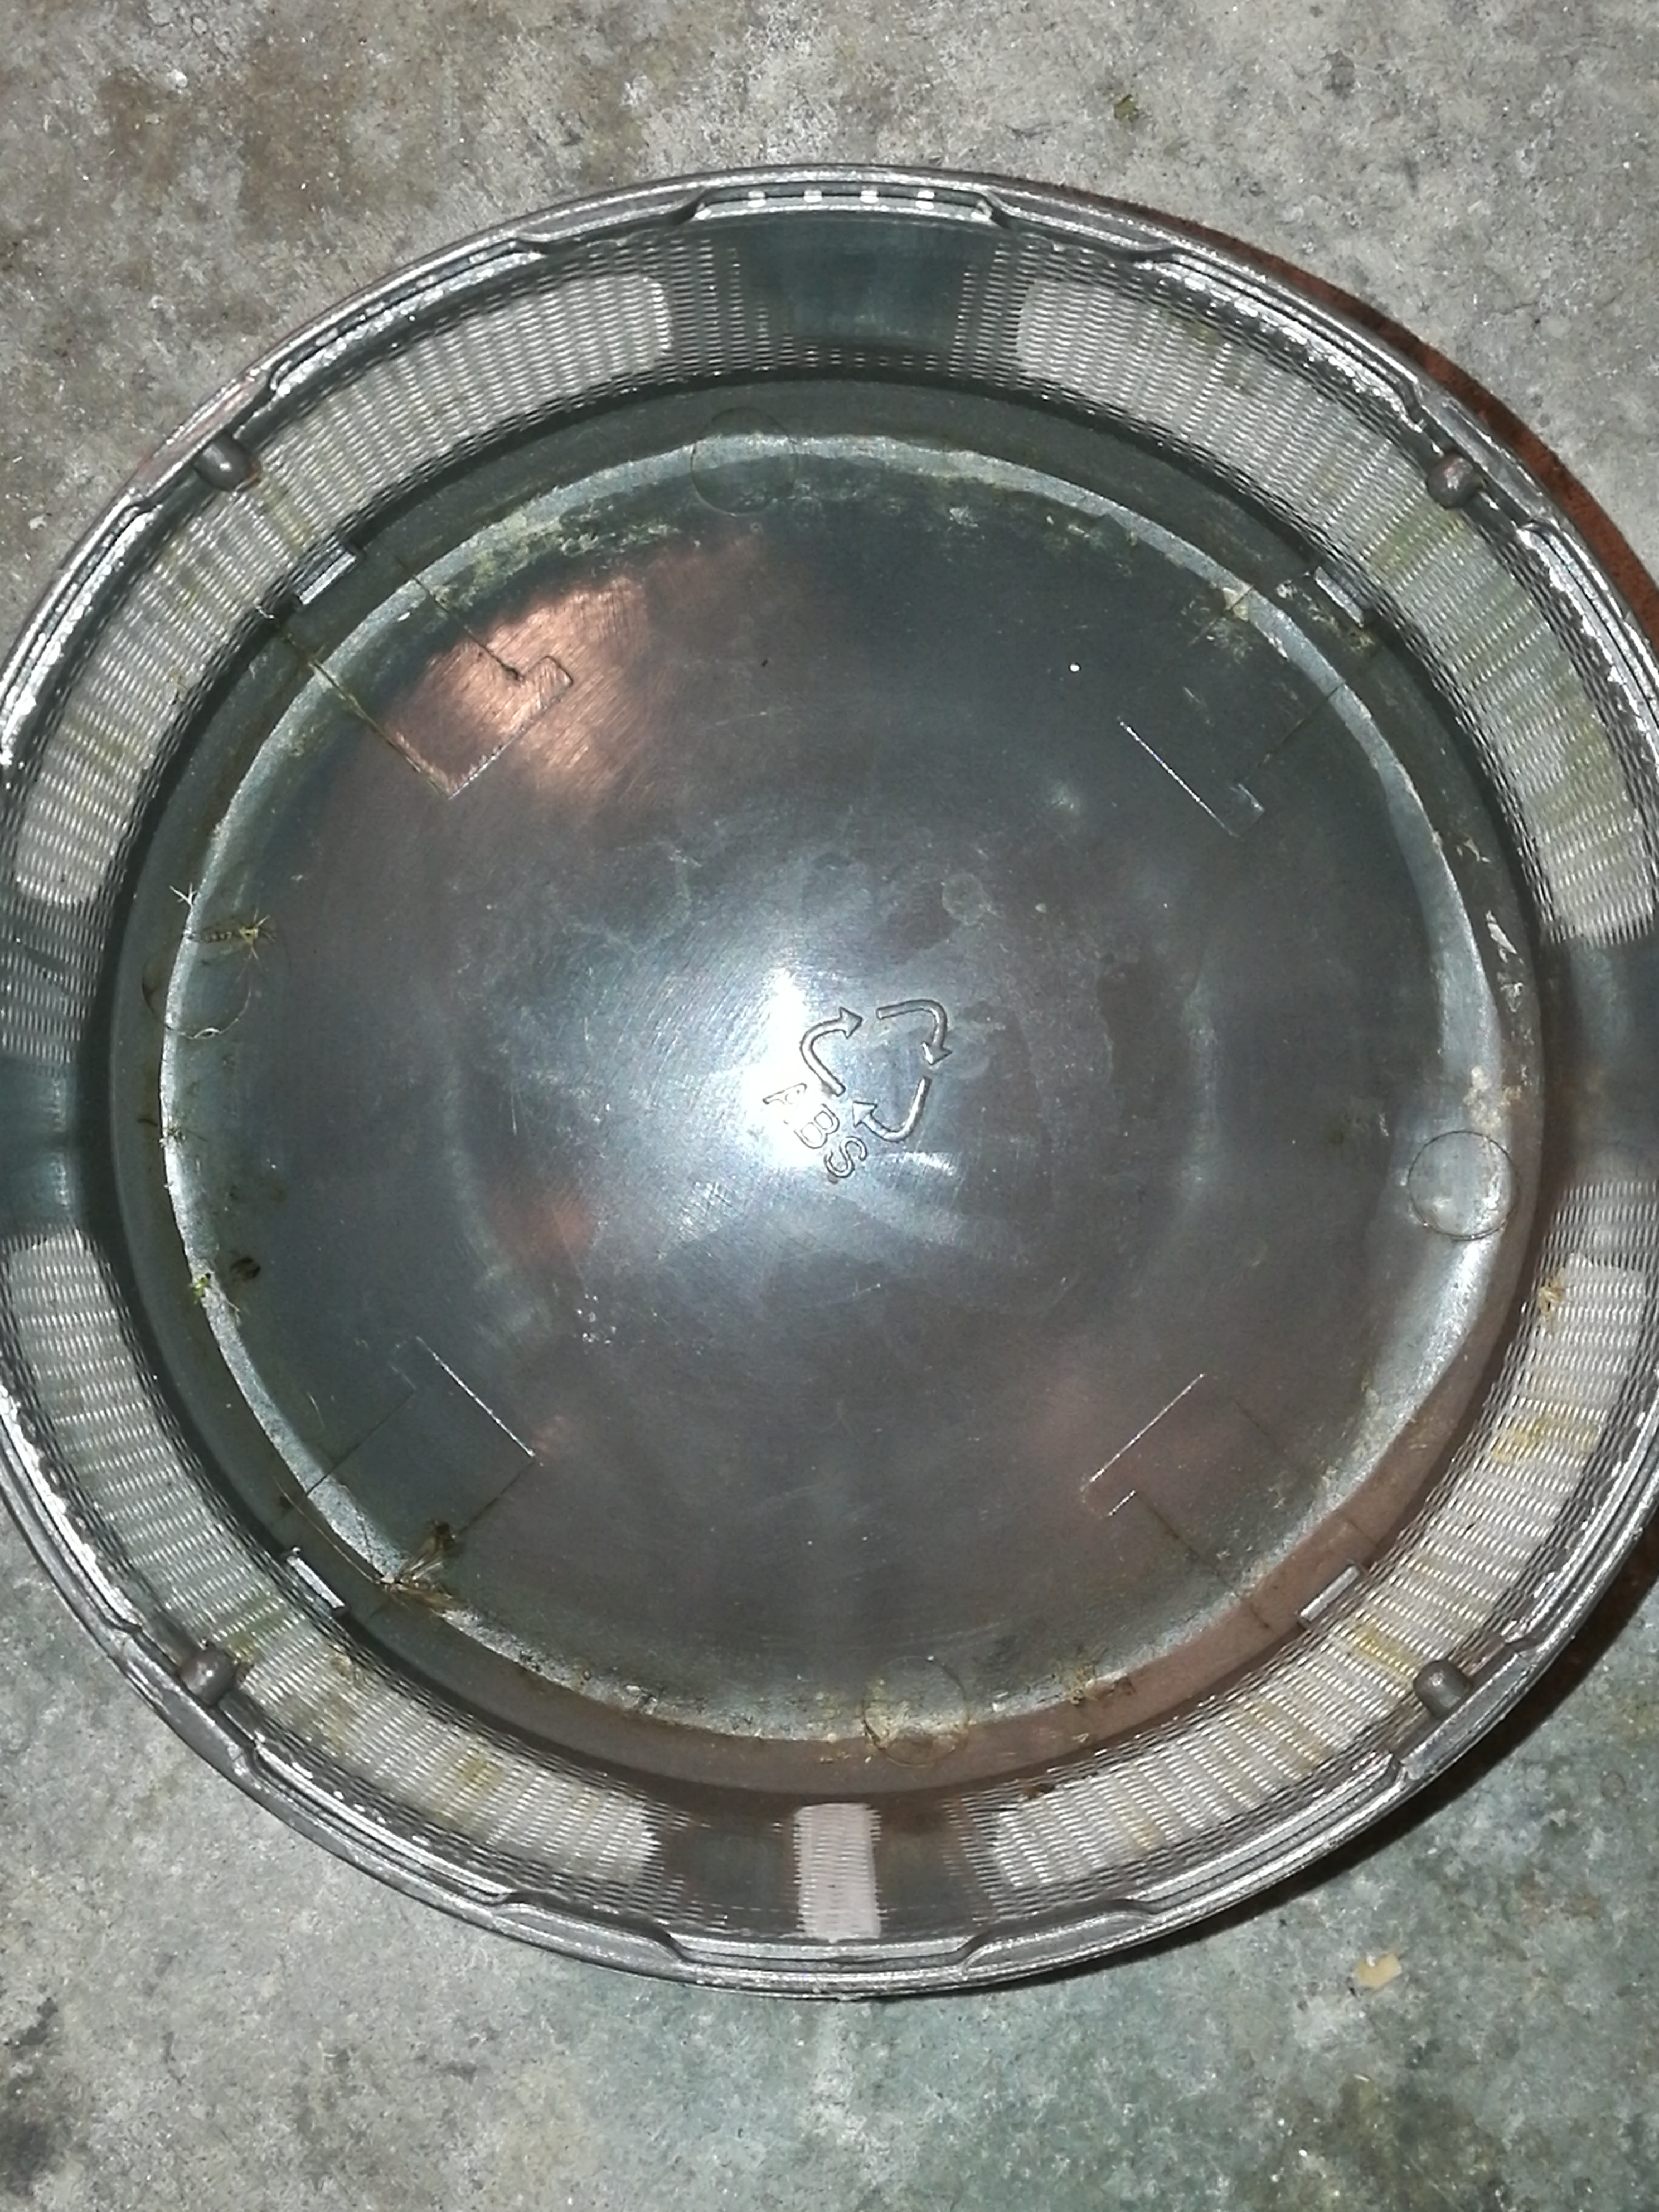mosquito: (186, 918, 258, 942)
moth: (380, 1536, 469, 1613), (1222, 585, 1249, 622), (1537, 1284, 1565, 1315)
